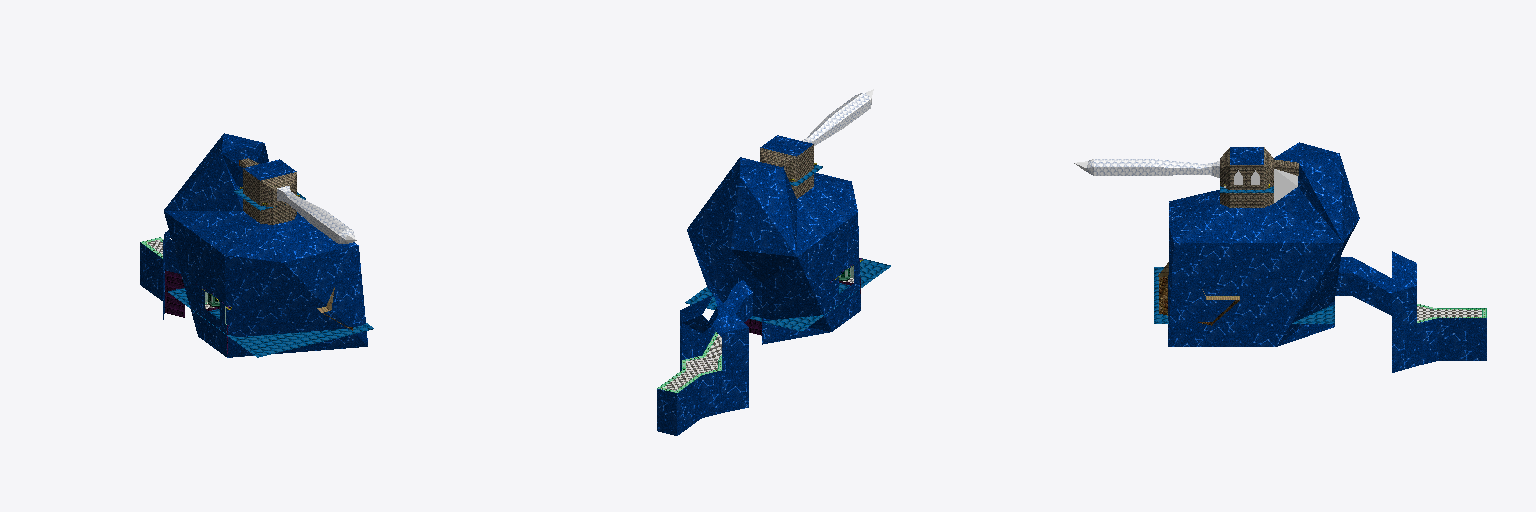
The picture shows the model from 3 angles: view 1: azimuth 30°, elevation 25°; view 2: azimuth 150°, elevation 25°; view 3: azimuth 270°, elevation 25°; orthographic projection.
Visible parts, largest first — view 1: Mesh79 Group1 Model, Mesh78 Group65 Group1 Model, Mesh26 Group28 Group1 Model, Mesh67 Group66 Group65 Group1 Model; view 2: Mesh79 Group1 Model, Mesh78 Group65 Group1 Model, Mesh26 Group28 Group1 Model, Mesh67 Group66 Group65 Group1 Model; view 3: Mesh79 Group1 Model, Mesh78 Group65 Group1 Model, Mesh67 Group66 Group65 Group1 Model, Mesh26 Group28 Group1 Model, Mesh46 Group47 Group46 Group1 Model.
Part boxes in pixels (left/top/right/bottom): Mesh79 Group1 Model: left=140, top=133, right=367, bottom=357; Mesh78 Group65 Group1 Model: left=239, top=158, right=296, bottom=224; Mesh26 Group28 Group1 Model: left=168, top=288, right=373, bottom=357; Mesh67 Group66 Group65 Group1 Model: left=284, top=191, right=354, bottom=243; Mesh79 Group1 Model: left=657, top=157, right=860, bottom=435; Mesh78 Group65 Group1 Model: left=760, top=135, right=813, bottom=198; Mesh26 Group28 Group1 Model: left=685, top=258, right=890, bottom=331; Mesh67 Group66 Group65 Group1 Model: left=802, top=92, right=871, bottom=145; Mesh79 Group1 Model: left=1168, top=142, right=1486, bottom=372; Mesh78 Group65 Group1 Model: left=1212, top=147, right=1298, bottom=207; Mesh67 Group66 Group65 Group1 Model: left=1086, top=159, right=1211, bottom=175; Mesh26 Group28 Group1 Model: left=1154, top=267, right=1334, bottom=323; Mesh46 Group47 Group46 Group1 Model: left=1159, top=273, right=1239, bottom=325.
Bounding box in the file's own units: 3589 × 5669 × 10464.
Materials: 41 (37 with a texture image).